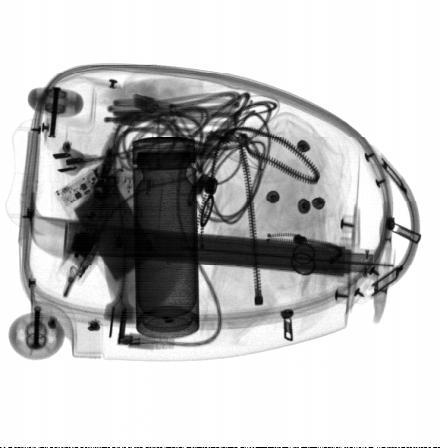Powerbank: (54, 154, 172, 301)
